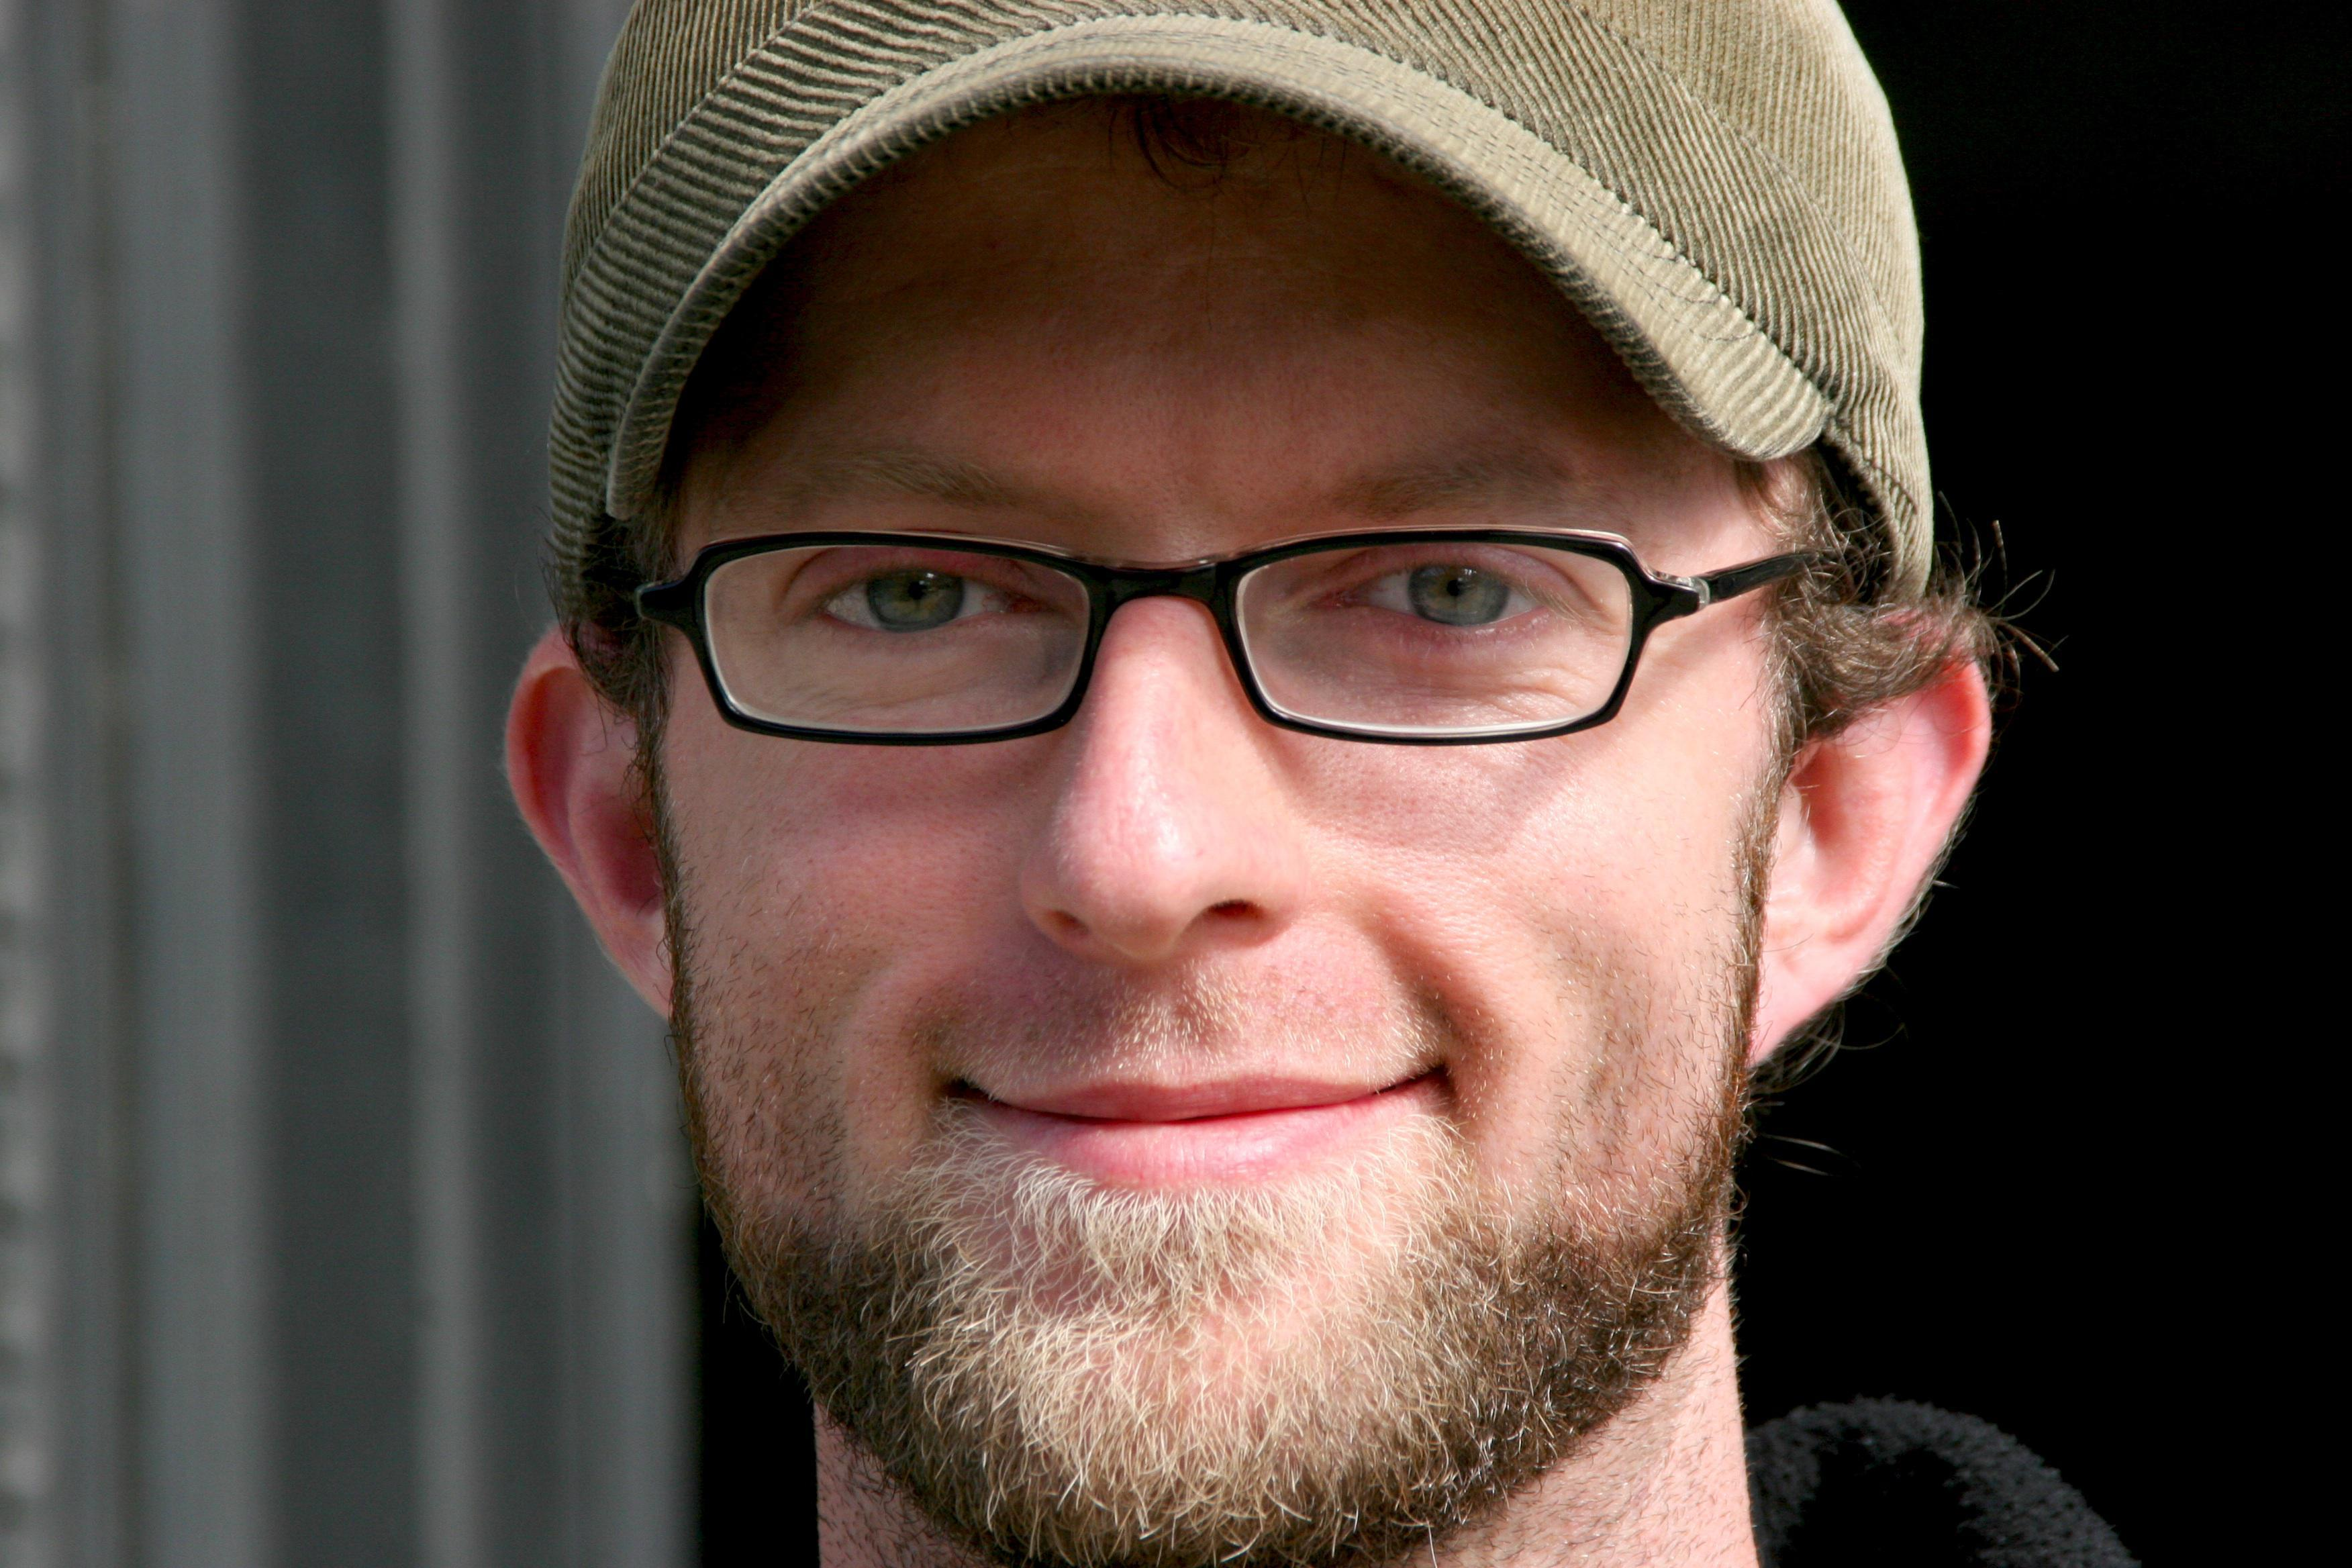Sober: (696, 322, 1694, 1395)
